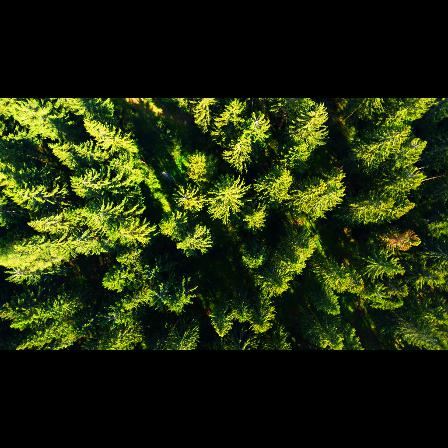Dead: (158, 166, 181, 189)
Sick: (147, 278, 170, 311), (245, 108, 269, 134)
